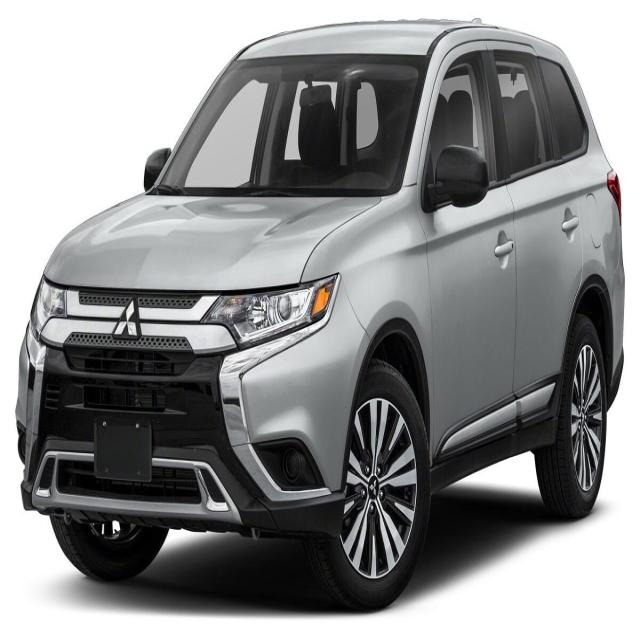light_vehicle: (16, 19, 626, 609)
